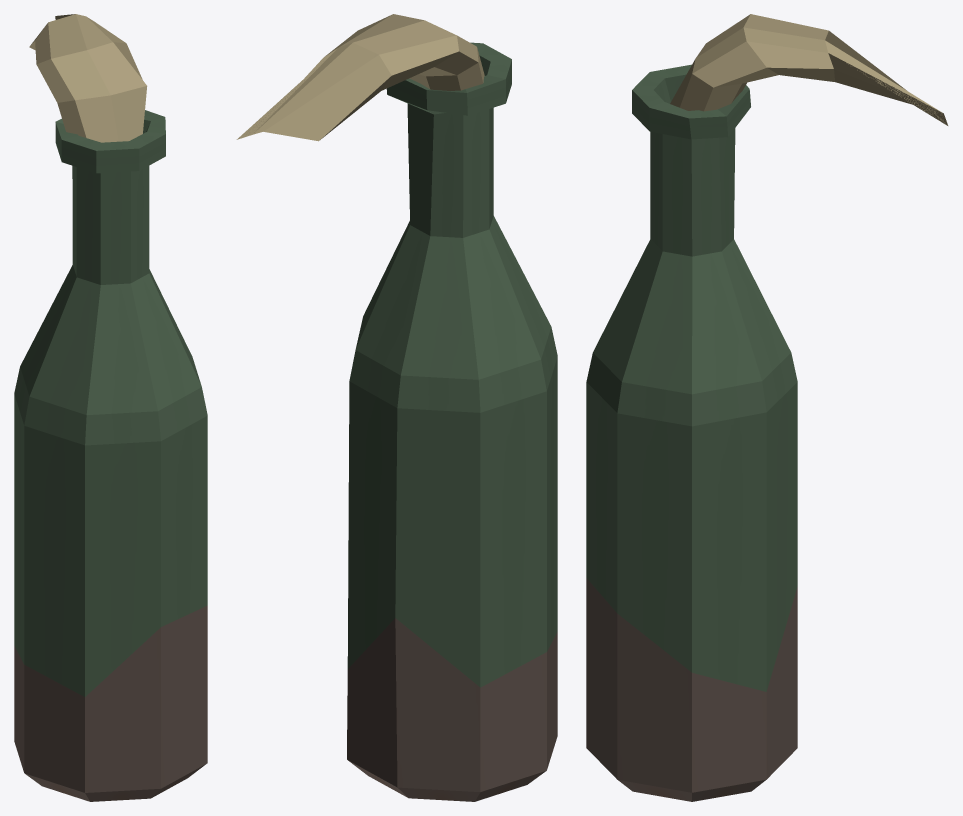
The model's file is Molotov_Mesh.fbx.
3 renders of one model, left to right at view 1: azimuth 30°, elevation 25°; view 2: azimuth 150°, elevation 25°; view 3: azimuth 270°, elevation 25°, orthographic. The views are drawn at different scales.
Visible parts, largest first — view 1: Molotov; view 2: Molotov; view 3: Molotov.
Boxes of the visible parts, x1=… form: Molotov: x1=14, y1=14, x2=207, y2=801; Molotov: x1=236, y1=14, x2=557, y2=801; Molotov: x1=586, y1=14, x2=948, y2=801.
Bounding box in the file's own units: 18.6 × 71.93 × 31.87.
1 material, 1 textured.
